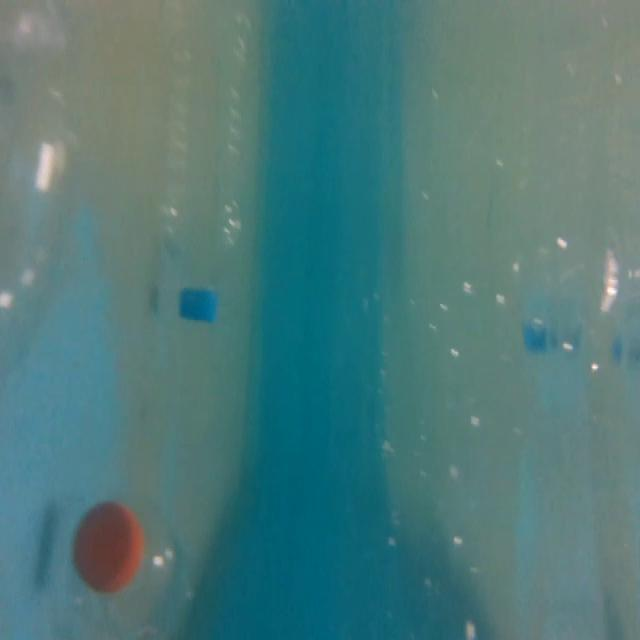plastic bottle: (153, 6, 268, 339), (56, 485, 215, 640)
